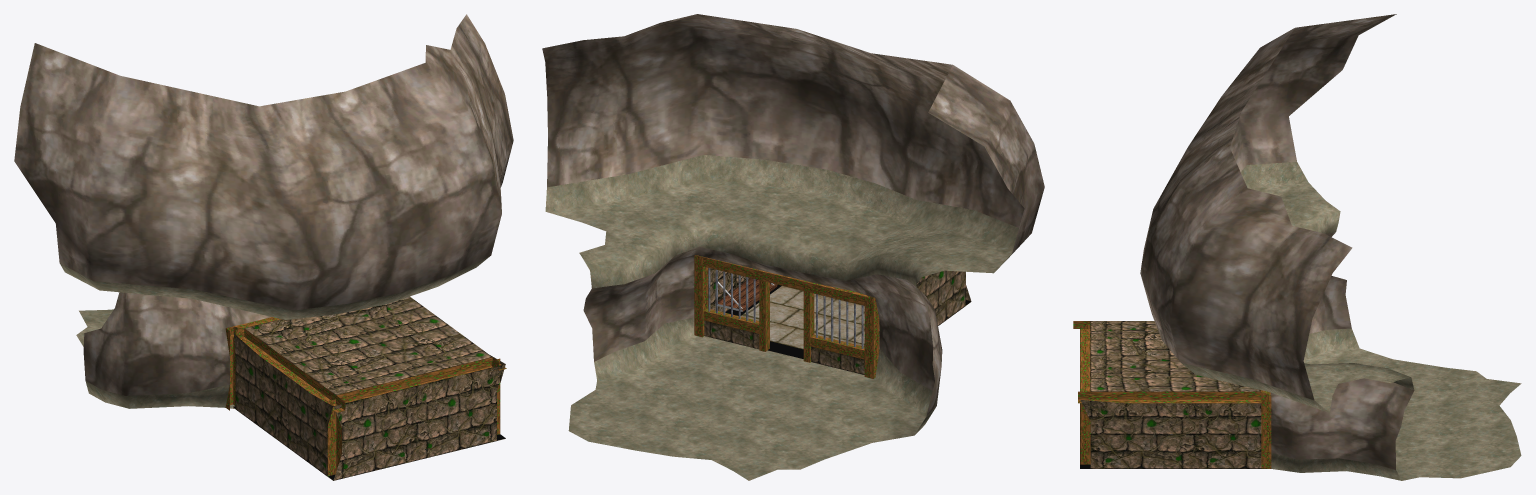
Rendered from CH7_ELVESCAPTUREBILBO_JAILSET.obj.
3 renders of one model, left to right at view 1: azimuth 30°, elevation 25°; view 2: azimuth 150°, elevation 25°; view 3: azimuth 270°, elevation 25°, orthographic. The views are drawn at different scales.
Parts seen in each view (by area): view 1: n_Top_Wall98476, _Top_Wall646473, JA_Object557, Jail_Wall393874, ain_Wall_837366, _Base_Trim83736, all_Trim9484877, oz_Jail_Beam493, oz_Jail_Beam491, oz_Jail_Beam489, oz_Jail_Beam492, Jail_Floor93938; view 2: n_Top_Wall98476, Jail_Floor93938, nd_Floor_393837, _Top_Wall646473, _Base_Trim83736, all_Trim9484877, ath_Trim9383837, JA_Object556, ain_Wall_837366, oz_Jail_Beam483, oz_Jail_Beam492, oz_Jail_Beam482 (+10 smaller); view 3: n_Top_Wall98476, Jail_Floor93938, ail_Wall7637364, _Top_Wall646473, JA_Object557, all_Trim9484877, nd_Floor_393837, _Base_Trim83736, oz_Jail_Beam490, ath_Trim9383837, oz_Jail_Beam482, oz_Jail_Beam493 (+1 smaller).
Boxes of the visible parts, box(x1,y1,x2,y2) form: n_Top_Wall98476: box(14, 14, 513, 310); _Top_Wall646473: box(83, 292, 271, 395); JA_Object557: box(244, 296, 492, 395); Jail_Wall393874: box(333, 364, 505, 480); ain_Wall_837366: box(233, 333, 333, 476); _Base_Trim83736: box(60, 256, 489, 319); all_Trim9484877: box(85, 381, 234, 408); oz_Jail_Beam493: box(336, 357, 495, 406); oz_Jail_Beam491: box(239, 328, 345, 412); oz_Jail_Beam489: box(327, 399, 341, 476); oz_Jail_Beam492: box(225, 326, 238, 410); Jail_Floor93938: box(76, 309, 113, 346); n_Top_Wall98476: box(542, 14, 1044, 253); Jail_Floor93938: box(568, 354, 880, 480); nd_Floor_393837: box(546, 179, 1012, 273); _Top_Wall646473: box(583, 246, 942, 415); _Base_Trim83736: box(545, 155, 1018, 270); all_Trim9484877: box(594, 317, 936, 442); ath_Trim9383837: box(582, 213, 944, 291); JA_Object556: box(740, 285, 971, 349); ain_Wall_837366: box(873, 270, 965, 349); oz_Jail_Beam483: box(695, 255, 867, 305); oz_Jail_Beam492: box(864, 295, 879, 378); oz_Jail_Beam482: box(694, 255, 708, 337); n_Top_Wall98476: box(1140, 14, 1396, 400); Jail_Floor93938: box(1360, 359, 1521, 478); ail_Wall7637364: box(1080, 400, 1261, 468); _Top_Wall646473: box(1270, 232, 1414, 469); JA_Object557: box(1090, 321, 1260, 391); all_Trim9484877: box(1271, 328, 1419, 480); nd_Floor_393837: box(1255, 182, 1397, 412); _Base_Trim83736: box(1181, 162, 1329, 412); oz_Jail_Beam490: box(1078, 391, 1261, 403); ath_Trim9383837: box(1293, 201, 1414, 389); oz_Jail_Beam482: box(1261, 392, 1271, 468); oz_Jail_Beam493: box(1080, 329, 1090, 391).
Size of the model in its own units: 1386 by 953 by 1214.
